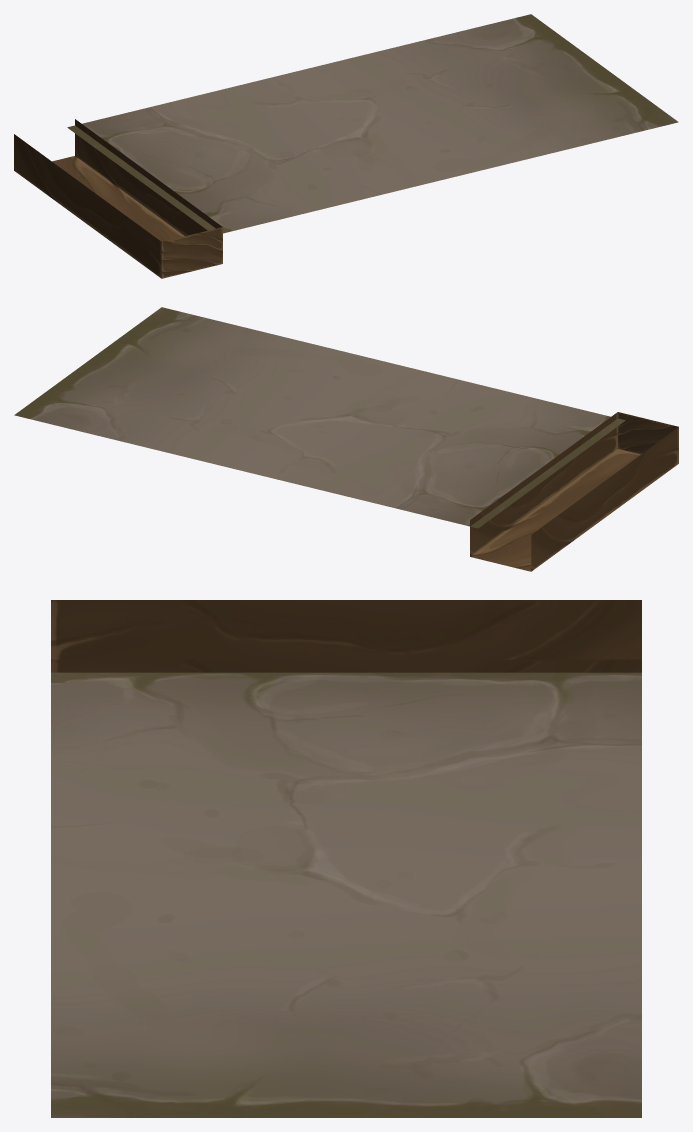
File: Ceiling_1_4_1_half.FBX
3 renders of one model, top to bottom at view 1: azimuth 30°, elevation 25°; view 2: azimuth 150°, elevation 25°; view 3: azimuth 270°, elevation 25°, orthographic. The views are drawn at different scales.
Visible parts, largest first — view 1: Ceiling_1_4_1_half; view 2: Ceiling_1_4_1_half; view 3: Ceiling_1_4_1_half.
Boxes of the visible parts, bbox=[...] form: Ceiling_1_4_1_half: bbox=[14, 14, 678, 278]; Ceiling_1_4_1_half: bbox=[14, 307, 678, 571]; Ceiling_1_4_1_half: bbox=[51, 600, 641, 1117].
Size of the model in its own units: 2032 by 139 by 1005.
Materials: 1 (1 with a texture image).
